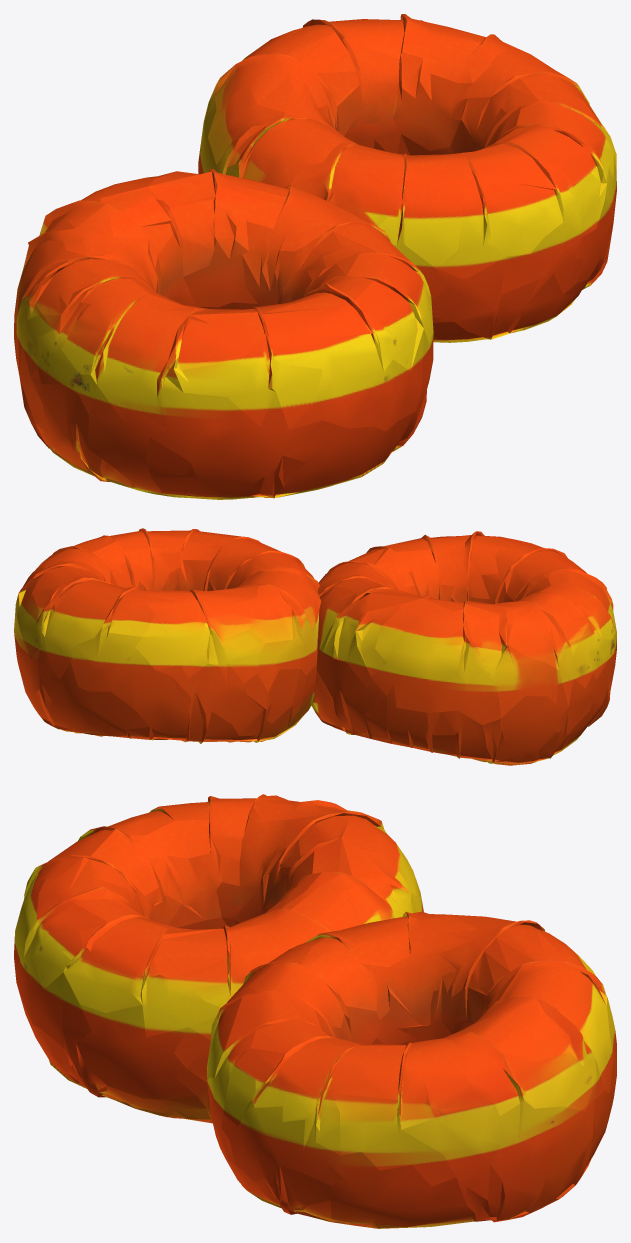
Rendered from braccioli.glb.
3 renders of one model, top to bottom at view 1: azimuth 30°, elevation 25°; view 2: azimuth 150°, elevation 25°; view 3: azimuth 270°, elevation 25°, orthographic. The views are drawn at different scales.
Bounding box in the file's own units: 1.9 × 0.6646 × 1.57.
1 material, 1 textured.
